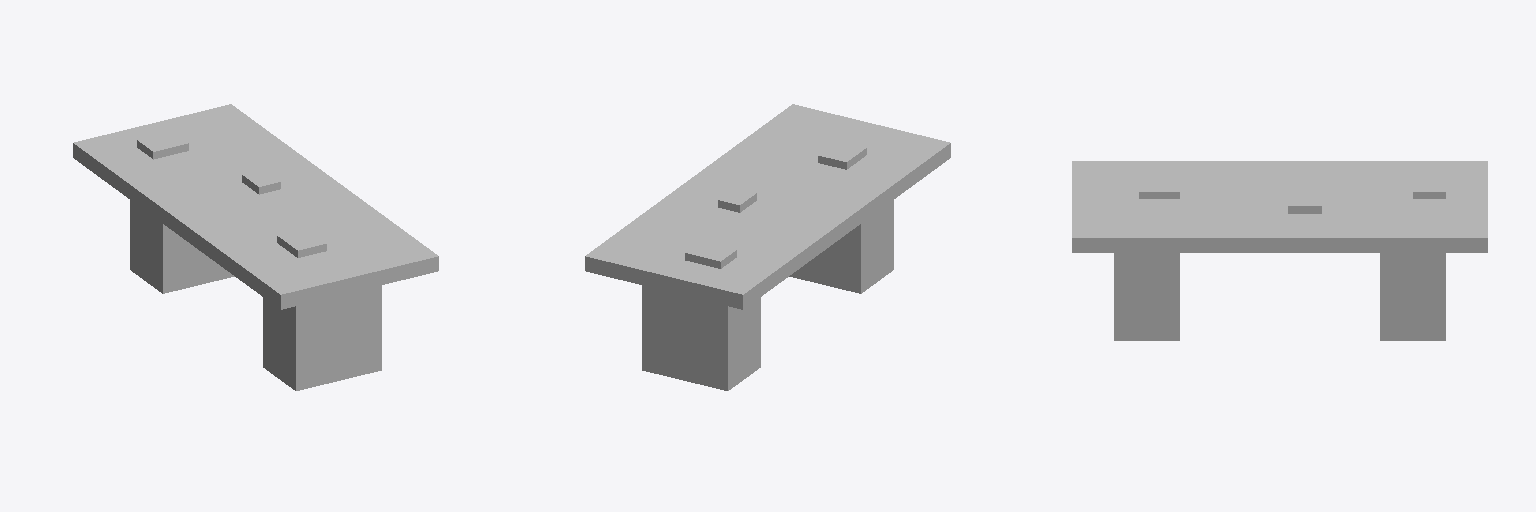
The model's file is Table02.obj.
3 renders of one model, left to right at view 1: azimuth 30°, elevation 25°; view 2: azimuth 150°, elevation 25°; view 3: azimuth 270°, elevation 25°, orthographic.
Parts seen in each view (by area): view 1: Table02; view 2: Table02; view 3: Table02.
Boxes of the visible parts, x1=… form: Table02: x1=73, y1=104, x2=438, y2=390; Table02: x1=585, y1=104, x2=950, y2=390; Table02: x1=1072, y1=161, x2=1487, y2=340.
Size of the model in its own units: 22 by 17 by 50.